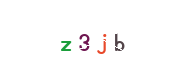3: (55, 0, 135, 80)
B: (61, 0, 141, 80)
J: (60, 0, 140, 80)
Z: (26, 0, 106, 80)
